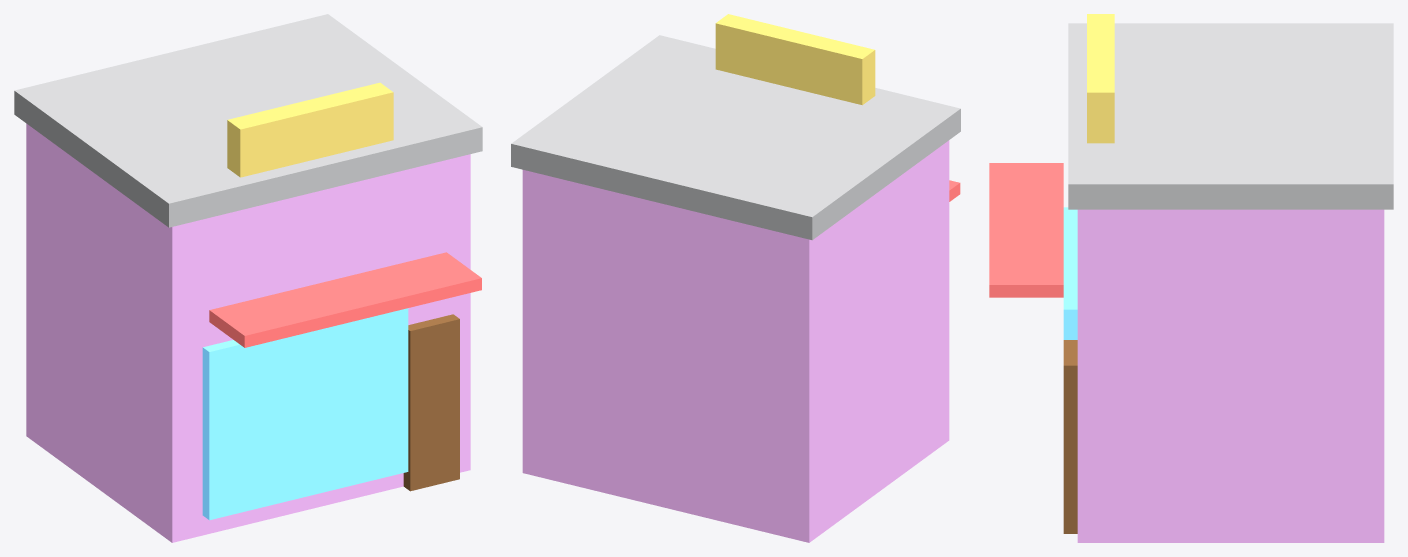
Rendered from boutique.glb.
3 renders of one model, left to right at view 1: azimuth 30°, elevation 25°; view 2: azimuth 150°, elevation 25°; view 3: azimuth 270°, elevation 25°, orthographic. The views are drawn at different scales.
Parts seen in each view (by area): view 1: boutique; view 2: boutique; view 3: boutique.
Part boxes in pixels (box(x1,y1,x2,y2)): boutique: box(14, 14, 482, 542); boutique: box(511, 14, 960, 542); boutique: box(989, 14, 1393, 542).
Bounding box in the file's own units: 0.82 × 0.98 × 0.87.
